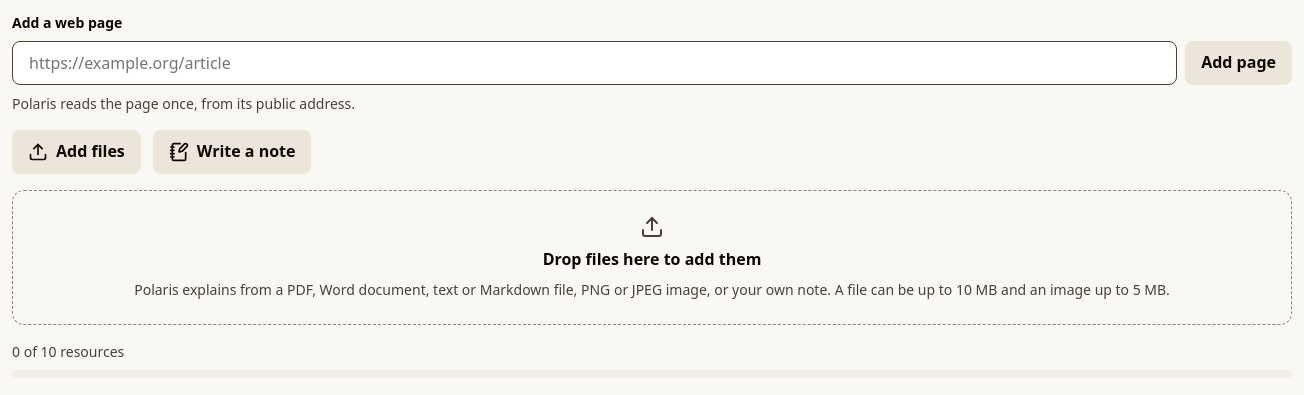
a refused link says why under the field (RS-23)
Expected: the text "0 of 10 resources" is shown, [12,342,124,361]
Type "http://localhost:8000" into the field labelled "Add a web page".
click(595, 63); type("http://localhost:8000")  # box [12,41,1177,85]
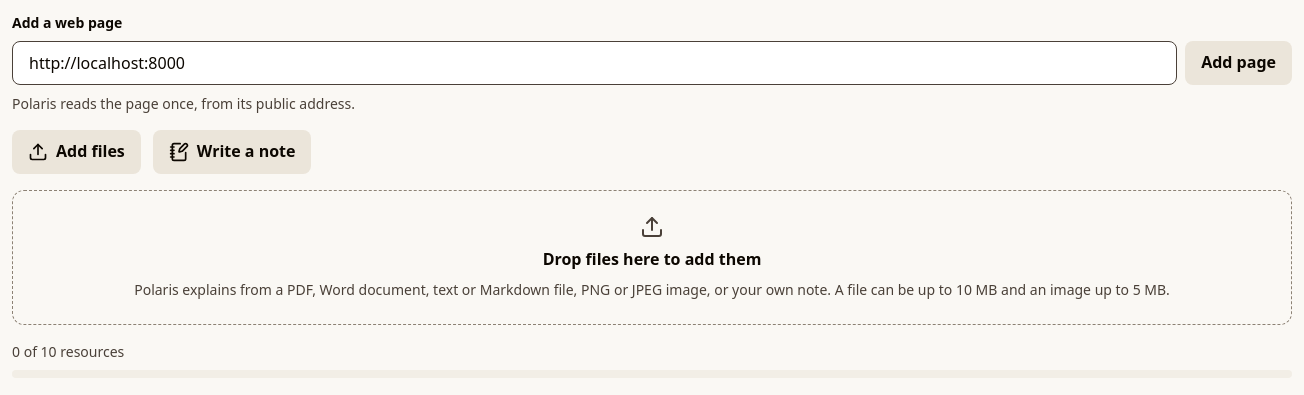
Click the button "Add page".
click(1239, 63)  # box [1185,41,1292,85]
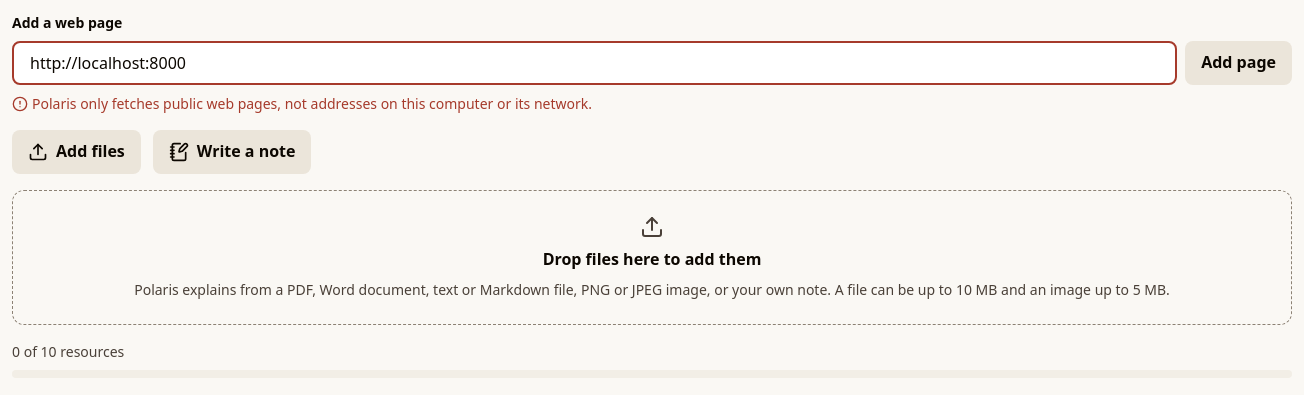
Expected: the message shows "only fetches public web pages", [32,94,592,113]
